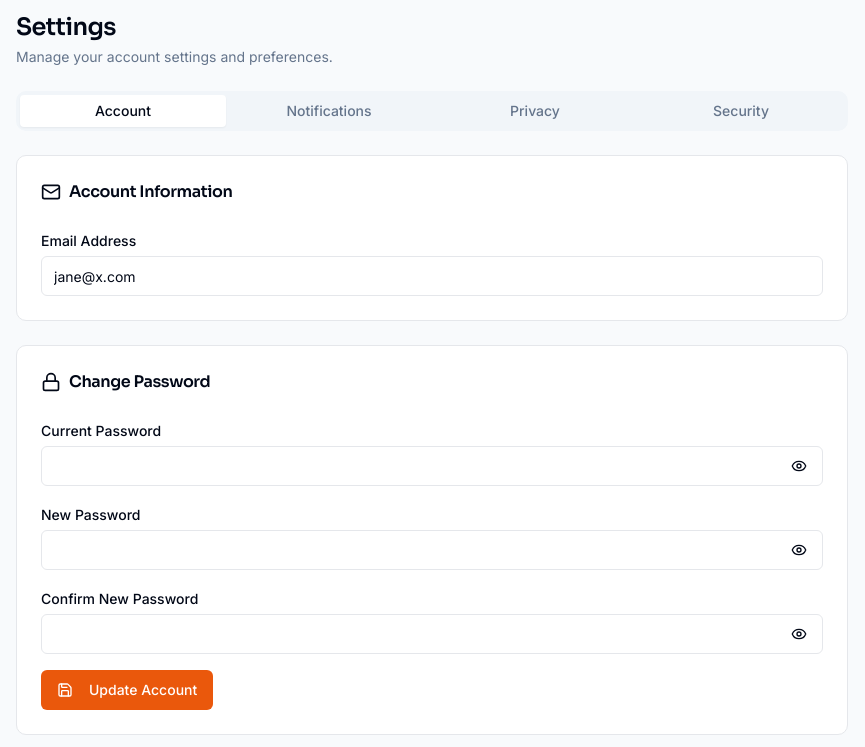
Scenario: Settings › shows the Delete Account control in the Security tab's Danger Zone
Expected: the field showing "jane@x.com" is shown, [41,256,823,296]
Expected: the button "delete account" is not shown
Click the tab "Security" at (741, 111), box [638,95,844,127]
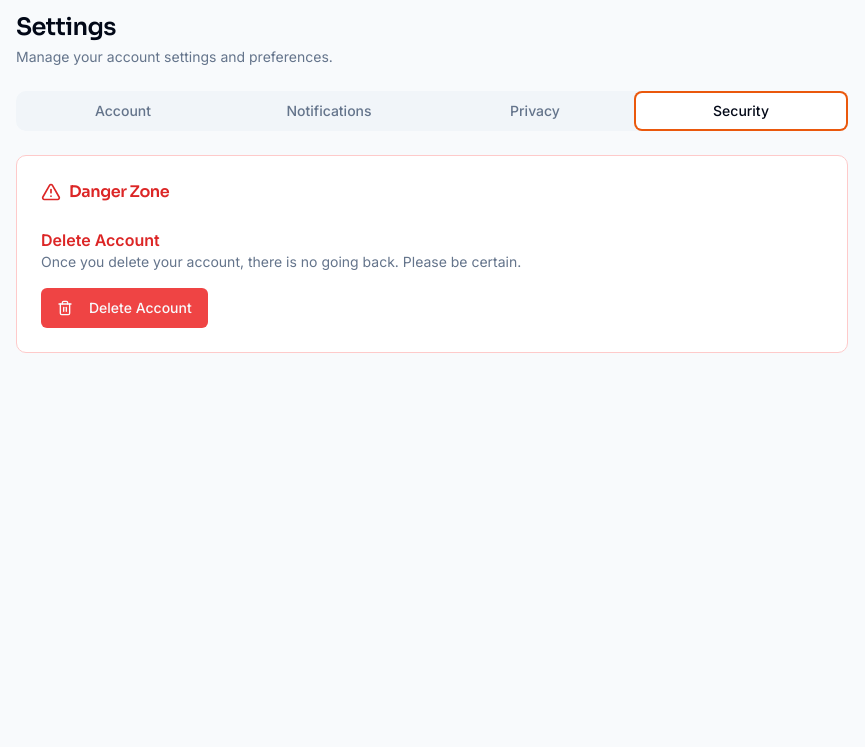
Now the button "Delete Account" is shown, box [41,288,208,328]
